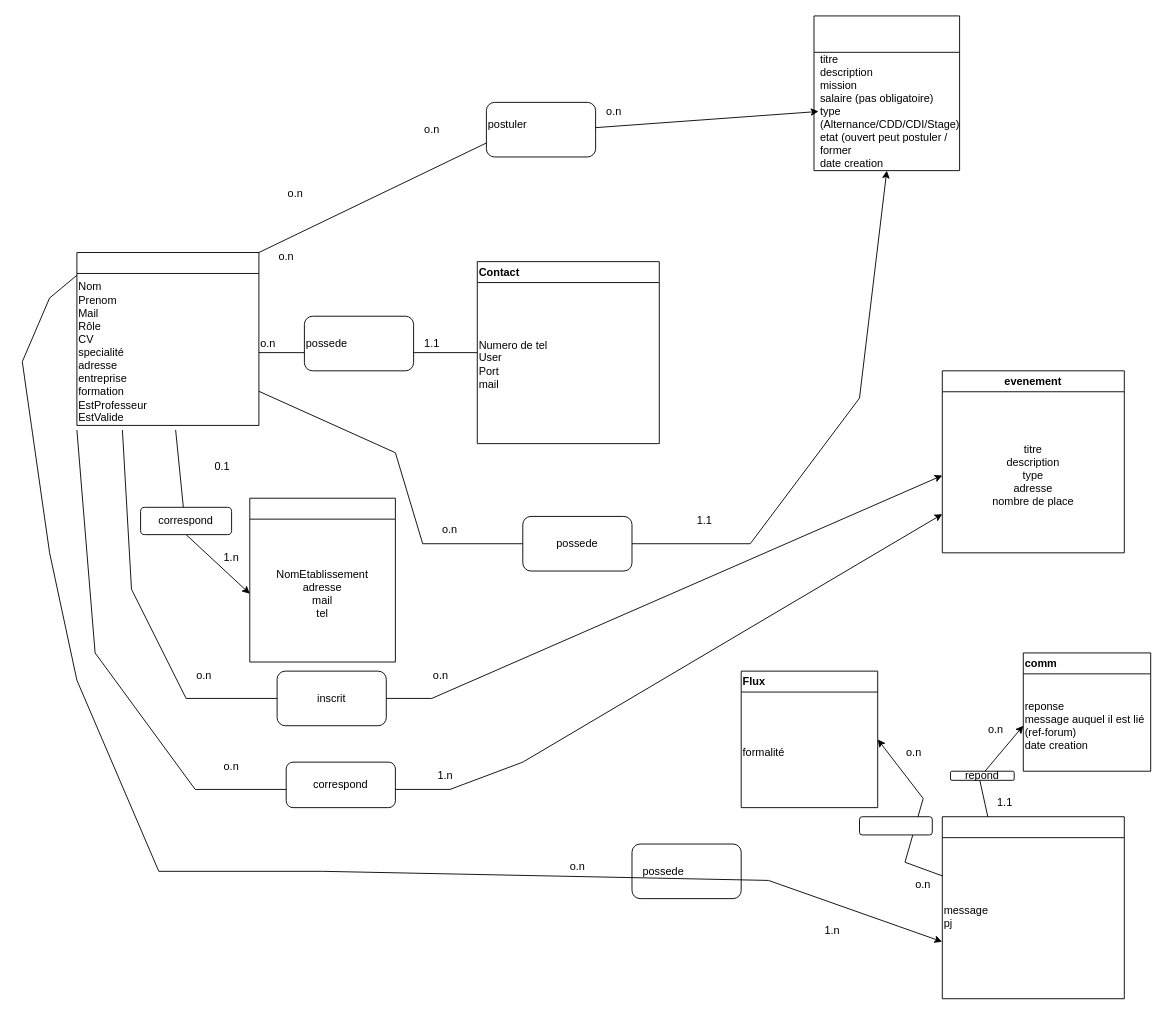
This 1167x1015 diagram has some shape labels left out. Here are the shapes that lost their labels. From the top down, the box of each, then its label:
(813, 15, 960, 171): offre
(76, 252, 259, 425): User
(249, 497, 395, 662): établissement
(859, 816, 932, 835): concerne
(941, 816, 1124, 999): Sujet
